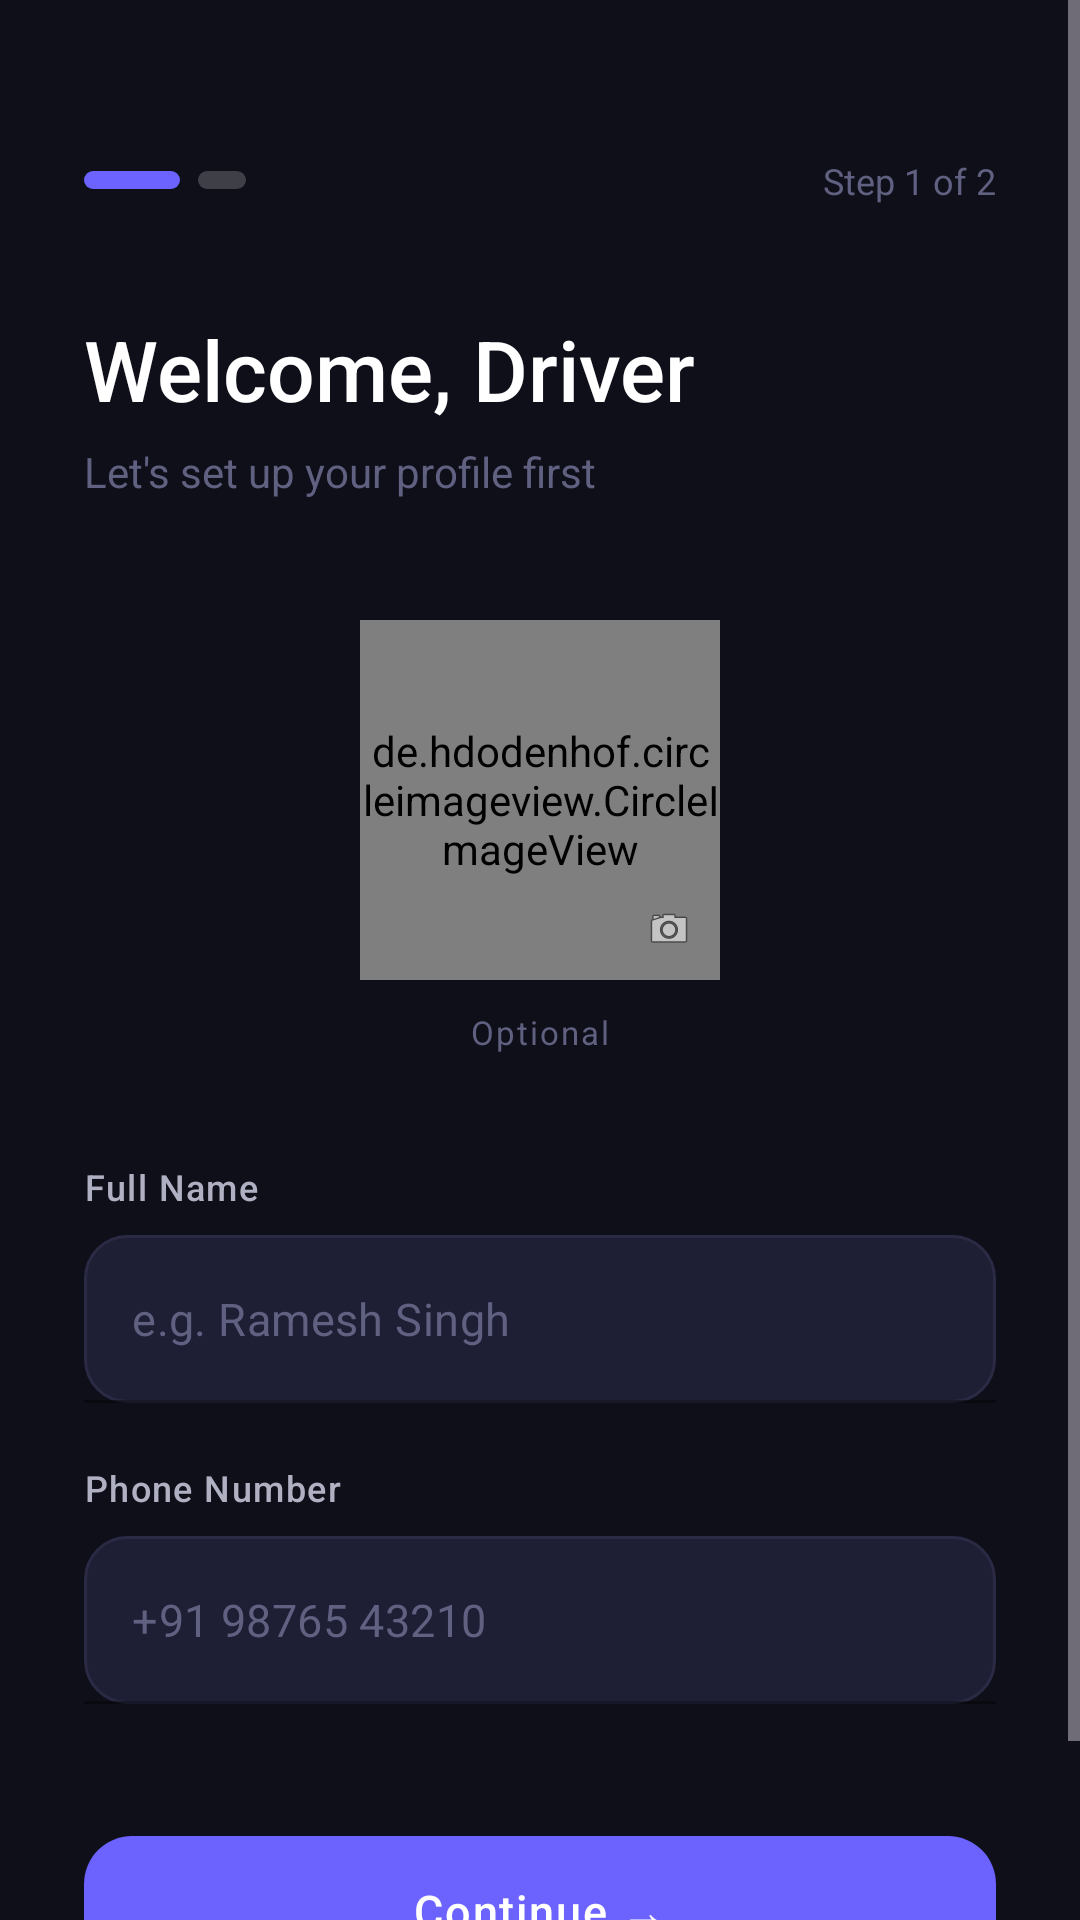

Screen size 1080x1920. Icon name, then its center in pixels as [x,y]:
camera: [669,928]
